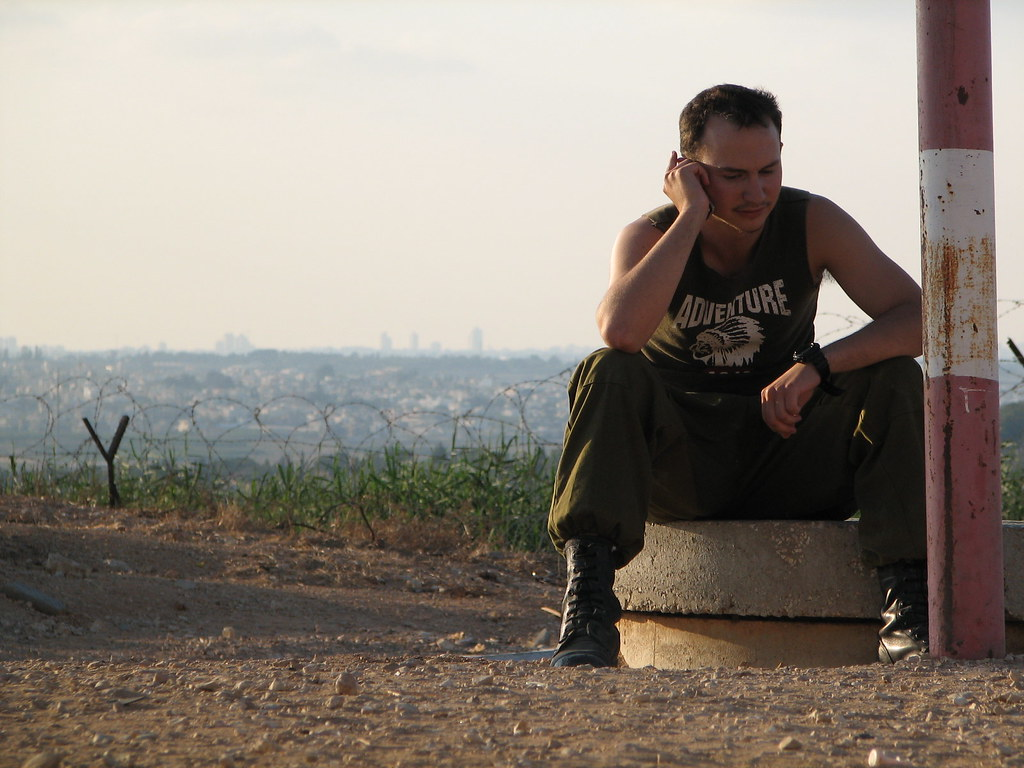phone: (653, 153, 715, 213)
talk: (661, 131, 782, 264)
